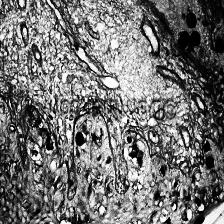Potentially Malignant Skin Tumors: (173, 12, 203, 64), (196, 141, 216, 167), (72, 131, 86, 150)
